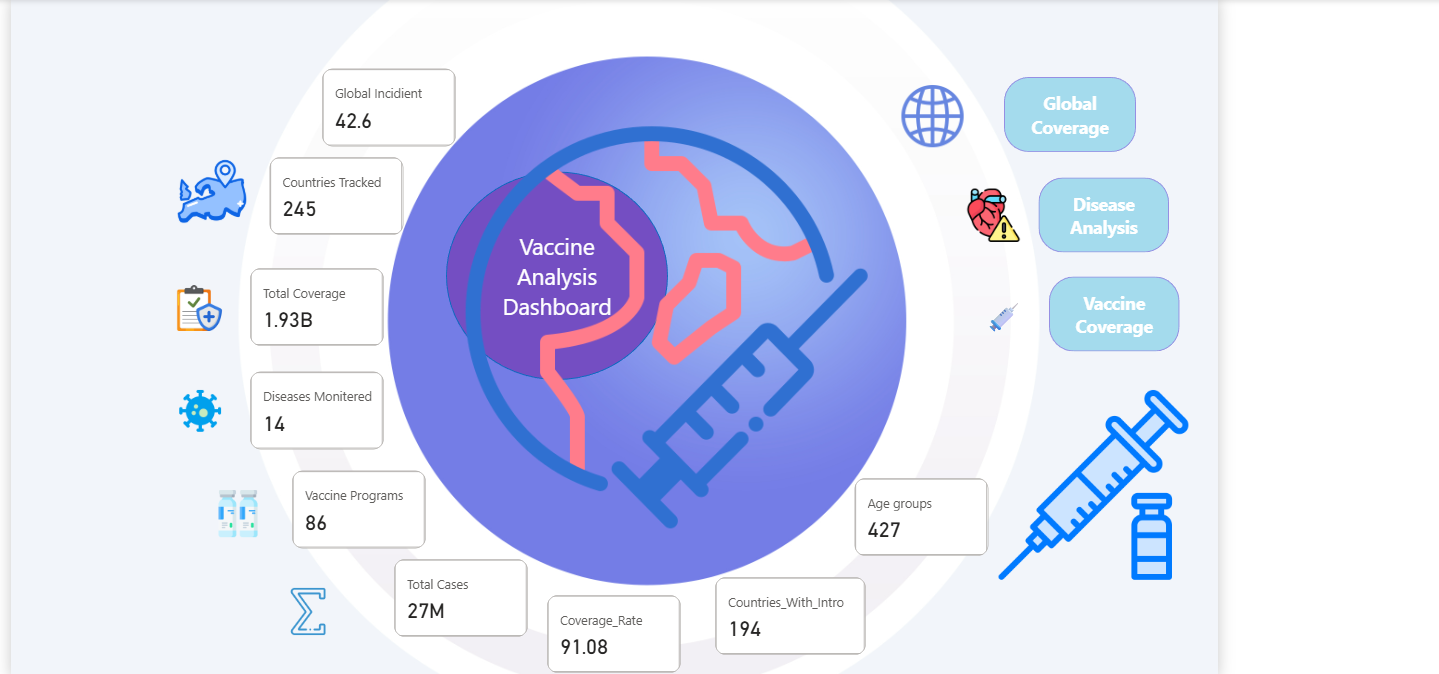

Layout of this report page (visuals, bound fields, positions):
{"tool":"powerbi","page":{"name":"Home Page","canvas":[1280,720],"ordinal":0},"visuals":[{"type":"shape","box":[461.3,182.9,235.4,221.1],"z":0},{"type":"cardVisual","fields":{"Data":["Table.Homepage_Total_Coverage"]},"box":[248.1,279.9,152.7,93.8],"z":1000},{"type":"cardVisual","fields":{"Data":["Table.Homepage_Avg_Incidence"]},"box":[324.5,68.4,152.7,93.8],"z":2000},{"type":"cardVisual","fields":{"Data":["Table.Homepage_Countries"]},"box":[268.8,162.2,152.7,93.8],"z":3000},{"type":"cardVisual","fields":{"Data":["Table.Homepage_Diseases"]},"box":[248.1,389.7,152.7,93.8],"z":4000},{"type":"cardVisual","fields":{"Data":["Table.Homepage_Vaccines"]},"box":[292.7,494.7,152.7,93.8],"z":5000},{"type":"shape","box":[1053,82.7,140,79.5],"z":6000},{"type":"textbox","box":[1025.9,308.6,52.5,81.1],"z":7000},{"type":"shape","box":[1089.6,189.3,138.4,79.5],"z":8000},{"type":"image","box":[1041.9,329.3,211.6,372.2],"z":9000},{"type":"image","box":[421.5,68.4,515.4,528.1],"z":9001},{"type":"shape","box":[1100.7,294.3,138.4,79.5],"z":9002},{"type":"image","box":[1006.9,195.6,70,66.8],"z":9003},{"type":"image","box":[936.9,85.9,81.1,76.3],"z":9004},{"type":"cardVisual","fields":{"Data":["Table.Total_Cases"]},"box":[400.8,588.5,152.7,93.8],"z":9005},{"type":"cardVisual","fields":{"Data":["Table.Vaccine_Coverage_Rate"]},"box":[563.1,626.7,152.7,93.8],"z":9006},{"type":"cardVisual","fields":{"Data":["Table.Countries_With_Intro"]},"box":[741.2,607.6,170.2,93.8],"z":9007},{"type":"cardVisual","fields":{"Data":["Table.Distinct_Age_Values"]},"box":[889.2,502.6,152.7,93.8],"z":9008},{"type":"image","box":[157.5,162.2,111.3,82.7],"z":9009},{"type":"image","box":[168.6,291.1,62,73.2],"z":9010},{"type":"image","box":[160.7,404,79.5,65.2],"z":9011},{"type":"image","box":[200.4,502.6,81.1,60.4],"z":9012},{"type":"image","box":[284.7,617.2,60.4,65.2],"z":9013}]}

Visuals, with their boxes on the page's 1280x720 design canvas (x1, y1, x2, y2). These are canvas units, not pixel positions in the 1439x674 screenshot, which may show the page scaled, cropped or inside an application window:
shape: {"left": 461, "top": 183, "right": 697, "bottom": 404}
cardVisual - Table.Homepage_Total_Coverage: {"left": 248, "top": 280, "right": 401, "bottom": 374}
cardVisual - Table.Homepage_Avg_Incidence: {"left": 324, "top": 68, "right": 477, "bottom": 162}
cardVisual - Table.Homepage_Countries: {"left": 269, "top": 162, "right": 422, "bottom": 256}
cardVisual - Table.Homepage_Diseases: {"left": 248, "top": 390, "right": 401, "bottom": 484}
cardVisual - Table.Homepage_Vaccines: {"left": 293, "top": 495, "right": 445, "bottom": 588}
shape: {"left": 1053, "top": 83, "right": 1193, "bottom": 162}
textbox: {"left": 1026, "top": 309, "right": 1078, "bottom": 390}
shape: {"left": 1090, "top": 189, "right": 1228, "bottom": 269}
image: {"left": 1042, "top": 329, "right": 1254, "bottom": 702}
image: {"left": 422, "top": 68, "right": 937, "bottom": 596}
shape: {"left": 1101, "top": 294, "right": 1239, "bottom": 374}
image: {"left": 1007, "top": 196, "right": 1077, "bottom": 262}
image: {"left": 937, "top": 86, "right": 1018, "bottom": 162}
cardVisual - Table.Total_Cases: {"left": 401, "top": 588, "right": 554, "bottom": 682}
cardVisual - Table.Vaccine_Coverage_Rate: {"left": 563, "top": 627, "right": 716, "bottom": 720}
cardVisual - Table.Countries_With_Intro: {"left": 741, "top": 608, "right": 911, "bottom": 701}
cardVisual - Table.Distinct_Age_Values: {"left": 889, "top": 503, "right": 1042, "bottom": 596}
image: {"left": 158, "top": 162, "right": 269, "bottom": 245}
image: {"left": 169, "top": 291, "right": 231, "bottom": 364}
image: {"left": 161, "top": 404, "right": 240, "bottom": 469}
image: {"left": 200, "top": 503, "right": 282, "bottom": 563}
image: {"left": 285, "top": 617, "right": 345, "bottom": 682}
